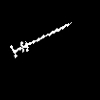treble_crochet: (10, 23, 70, 57)
